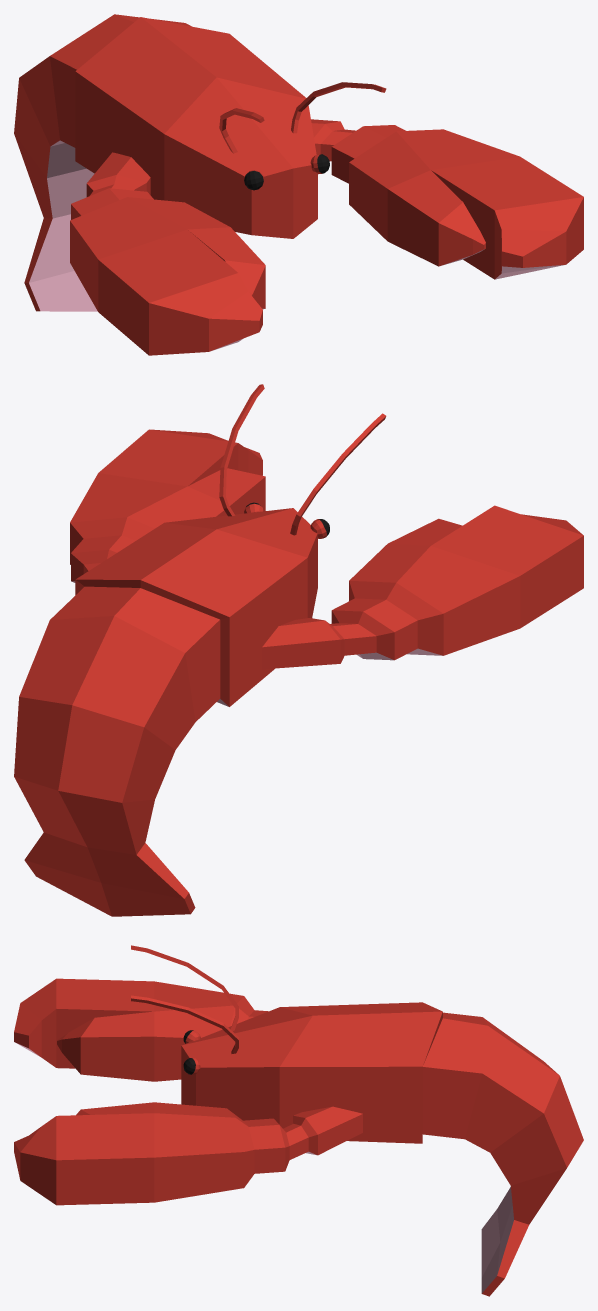
Rendered from Lobster_01.fbx.
The picture shows the model from 3 angles, top to bottom: view 1: azimuth 30°, elevation 25°; view 2: azimuth 150°, elevation 25°; view 3: azimuth 270°, elevation 25°; orthographic projection. The views are drawn at different scales.
Parts seen in each view (by area): view 1: Lobster_01; view 2: Lobster_01; view 3: Lobster_01.
Boxes of the visible parts, x1,y1,x2,y2 form: Lobster_01: (14,14,583,355); Lobster_01: (14,384,583,916); Lobster_01: (14,945,583,1296).
Bounding box in the file's own units: 9 × 7.19 × 11.93.
